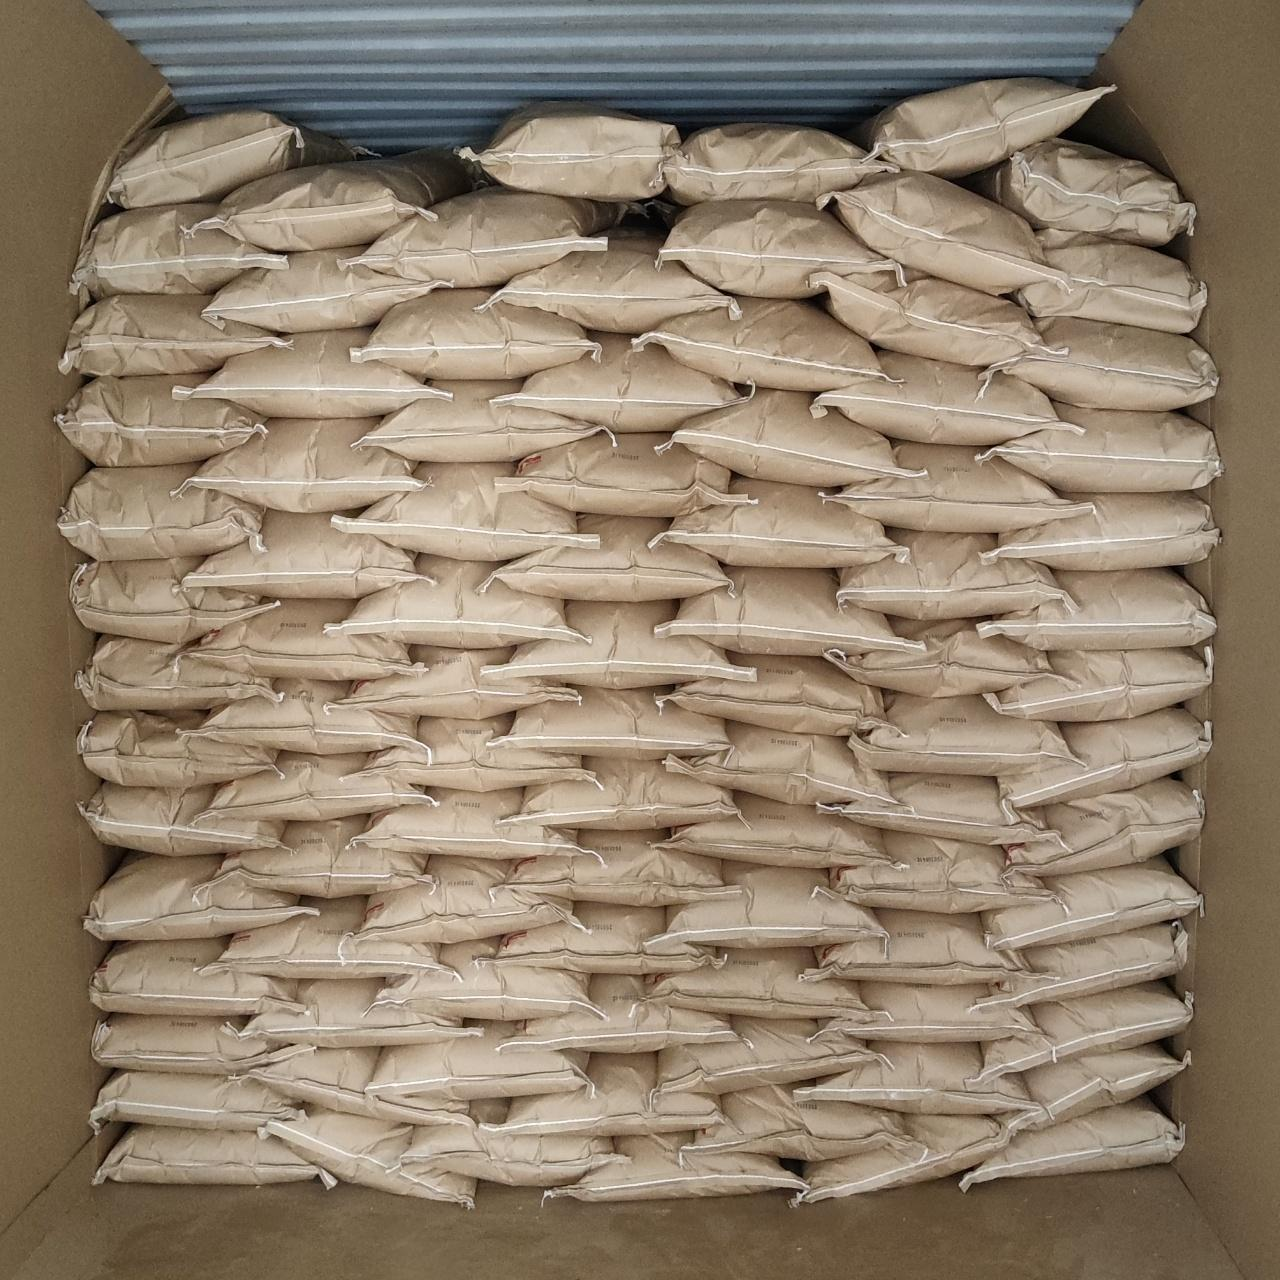sack: (94, 110, 370, 215), (824, 173, 1048, 292), (354, 190, 617, 286), (812, 352, 1078, 445), (855, 80, 1108, 176), (968, 139, 1194, 246), (206, 156, 462, 250), (504, 334, 750, 430), (488, 238, 736, 332), (826, 442, 1080, 532), (173, 418, 422, 510), (818, 268, 1054, 365), (971, 982, 1190, 1085), (634, 298, 878, 390), (672, 388, 900, 486), (338, 464, 576, 558), (660, 202, 898, 294), (352, 290, 592, 380), (1000, 708, 1212, 810), (658, 478, 903, 566), (498, 600, 742, 688), (338, 556, 574, 646), (178, 331, 434, 414), (658, 568, 904, 654), (260, 1110, 476, 1206), (986, 318, 1214, 408), (72, 202, 286, 298), (983, 858, 1201, 952), (982, 404, 1220, 490), (204, 248, 448, 332), (477, 1055, 721, 1138), (464, 105, 678, 200), (838, 530, 1070, 617), (356, 382, 606, 462), (348, 856, 574, 944), (998, 1043, 1187, 1148), (1006, 776, 1204, 876), (488, 516, 726, 598), (960, 1098, 1182, 1186), (186, 512, 414, 598), (794, 1116, 1006, 1206), (60, 464, 263, 558), (501, 434, 731, 516), (86, 855, 312, 938), (666, 722, 888, 806), (660, 656, 900, 734), (196, 816, 428, 896), (236, 1048, 470, 1126), (662, 124, 892, 204), (200, 898, 440, 974), (402, 1104, 624, 1186), (328, 646, 578, 719), (826, 830, 1054, 910), (663, 862, 878, 946), (978, 570, 1214, 646), (376, 938, 595, 1020), (56, 376, 266, 462), (654, 1017, 878, 1096), (352, 716, 590, 790), (852, 694, 1073, 774), (60, 297, 286, 374), (195, 600, 414, 680), (980, 922, 1190, 1006), (656, 794, 888, 869), (982, 492, 1218, 566), (821, 772, 1062, 844), (504, 976, 736, 1050), (1016, 241, 1206, 332), (354, 788, 590, 860), (188, 680, 422, 753), (70, 558, 275, 640), (828, 618, 1048, 694), (546, 1133, 806, 1198), (498, 832, 736, 903), (374, 1022, 588, 1099), (508, 758, 738, 830), (802, 910, 1026, 982), (794, 1042, 1030, 1110), (501, 688, 726, 760), (983, 648, 1212, 719), (498, 904, 724, 974), (90, 938, 298, 1014), (238, 980, 478, 1046), (206, 753, 430, 822), (694, 1085, 906, 1158), (76, 636, 278, 710), (80, 782, 284, 855), (640, 949, 862, 1016), (79, 712, 278, 784), (810, 982, 1042, 1042), (96, 1126, 334, 1184), (91, 1014, 314, 1074), (90, 1070, 300, 1130)
